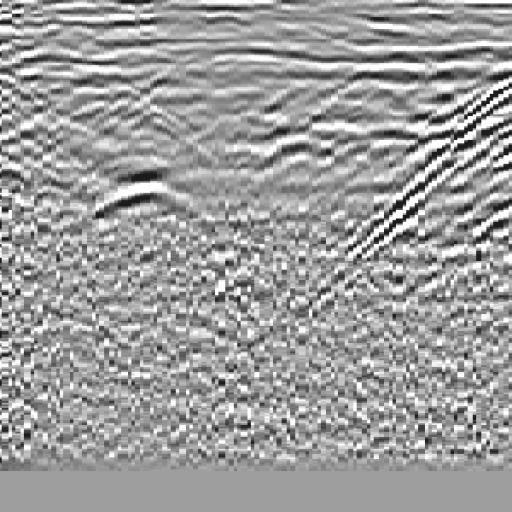metalic: (55, 137, 238, 263)
nonmetalic: (371, 74, 512, 271)
